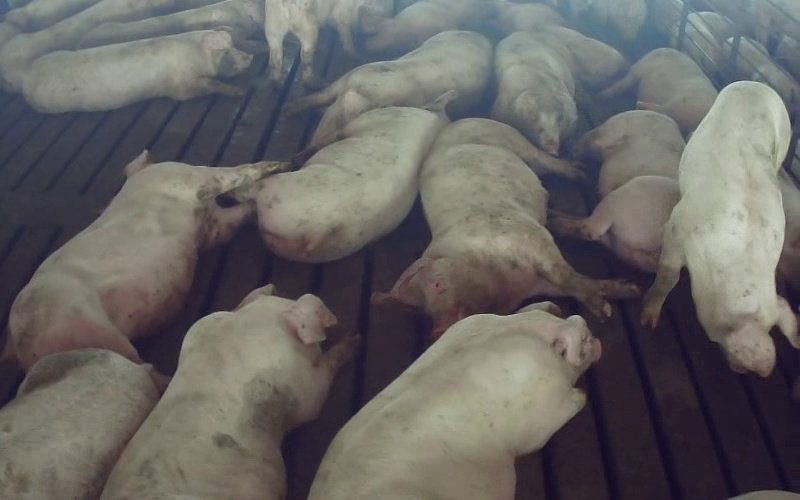pig: (373, 118, 637, 334), (310, 302, 598, 499), (102, 285, 358, 499), (641, 81, 799, 376), (234, 91, 455, 262), (0, 348, 158, 499), (289, 31, 492, 145), (548, 111, 684, 271), (22, 31, 251, 112), (498, 0, 626, 87), (491, 32, 576, 155), (602, 48, 717, 135), (360, 0, 495, 58), (265, 0, 359, 82)
